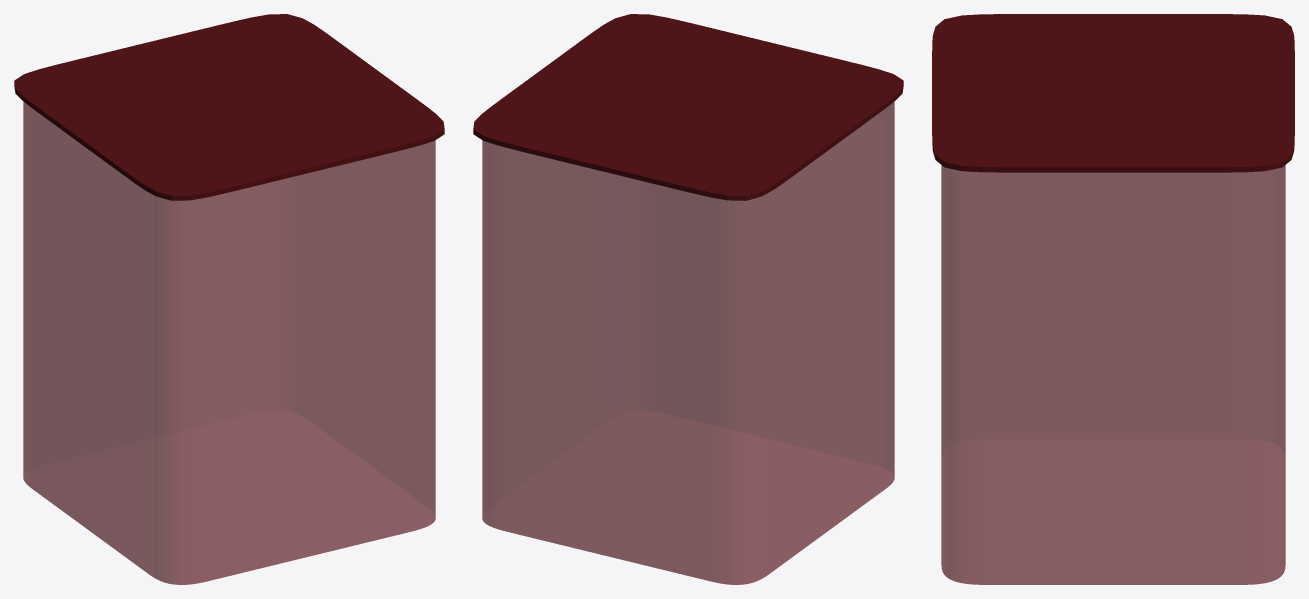
File: OBJEK7.fbx
3 renders of one model, left to right at view 1: azimuth 30°, elevation 25°; view 2: azimuth 150°, elevation 25°; view 3: azimuth 270°, elevation 25°, orthographic. The views are drawn at different scales.
Parts seen in each view (by area): view 1: Cube.001; view 2: Cube.001; view 3: Cube.001.
Part boxes in pixels (left/top/right/bottom): Cube.001: left=14, top=14, right=444, bottom=584; Cube.001: left=473, top=14, right=903, bottom=584; Cube.001: left=932, top=14, right=1294, bottom=584.
Size of the model in its own units: 105 by 135 by 105.
